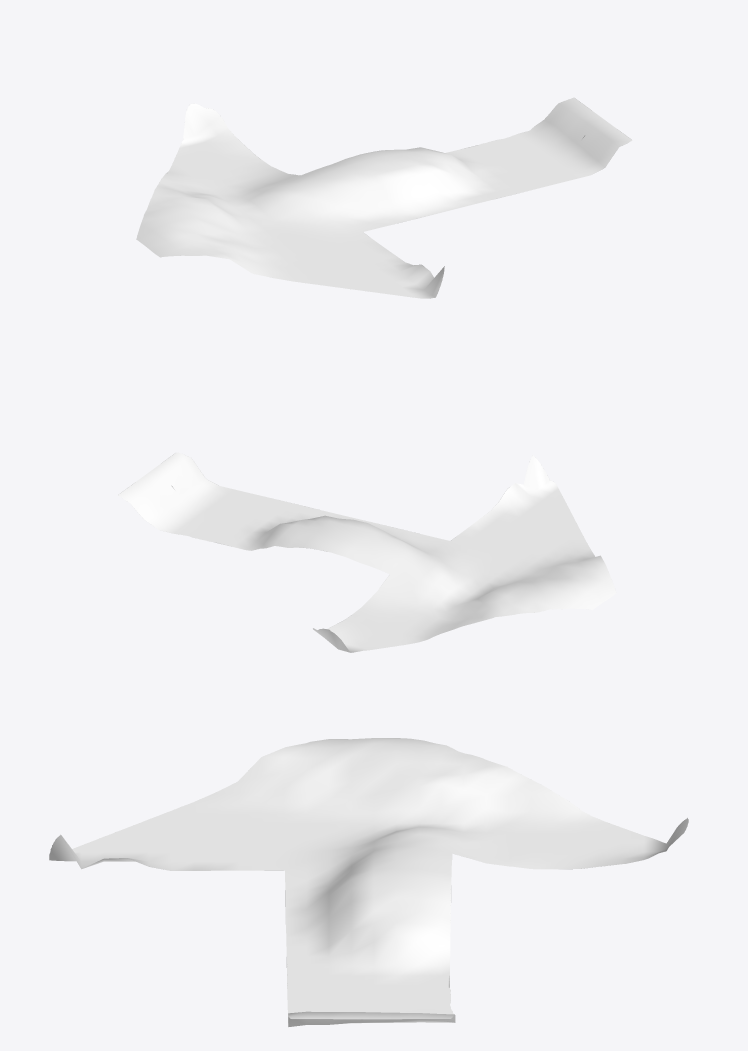
3 views of the same model, one above another, from view 1: azimuth 30°, elevation 25°; view 2: azimuth 150°, elevation 25°; view 3: azimuth 270°, elevation 25° (orthographic). The views are drawn at different scales.
Parts seen in each view (by area): view 1: Terrain_SxteenthResolution:Mesh; view 2: Terrain_SxteenthResolution:Mesh; view 3: Terrain_SxteenthResolution:Mesh.
Boxes of the visible parts, x1=… form: Terrain_SxteenthResolution:Mesh: x1=136, y1=97, x2=631, y2=298; Terrain_SxteenthResolution:Mesh: x1=118, y1=452, x2=616, y2=652; Terrain_SxteenthResolution:Mesh: x1=49, y1=738, x2=688, y2=1026.
Bounding box in the file's own units: 3000 × 200 × 3000.
